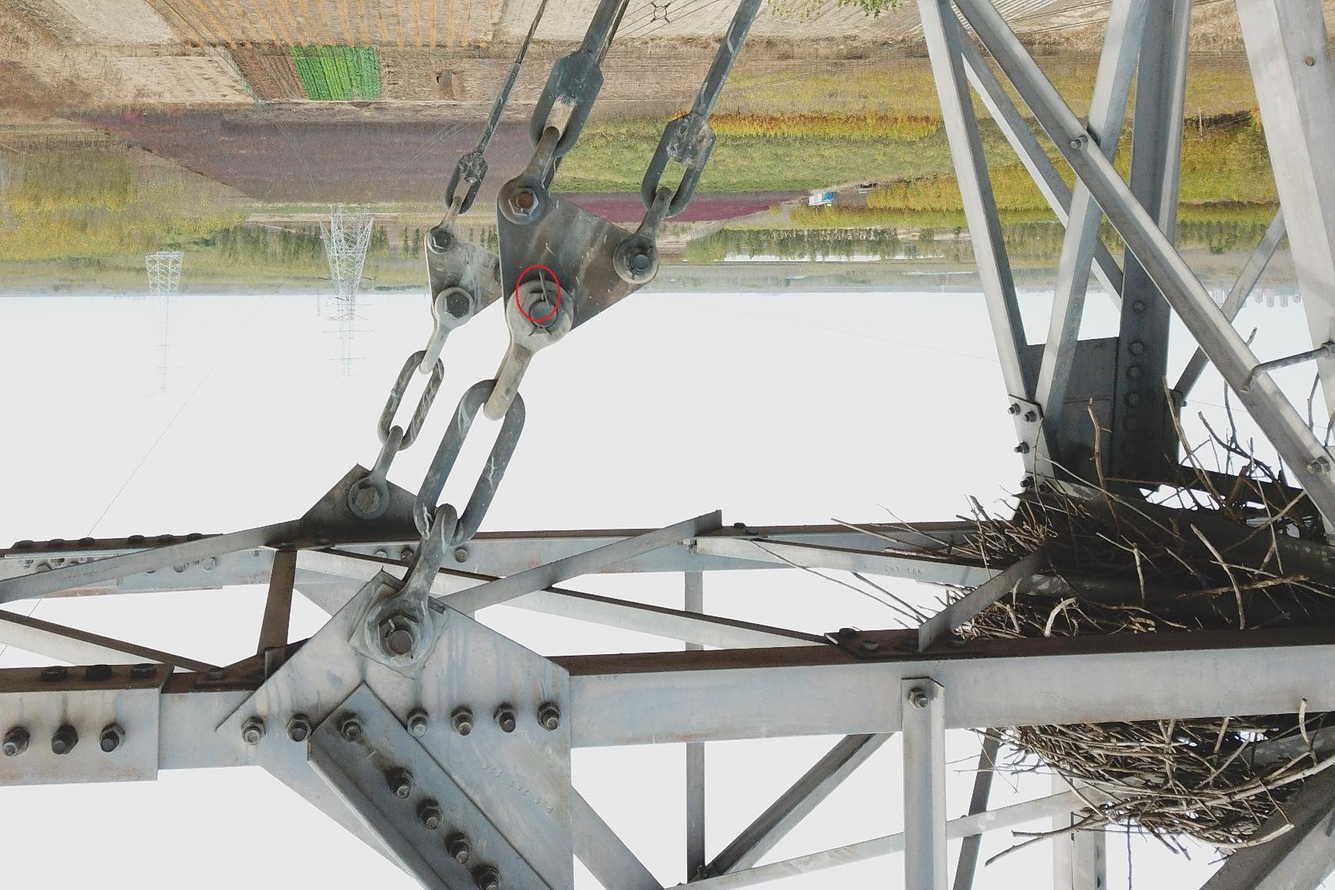nest: (918, 398, 1335, 858)
